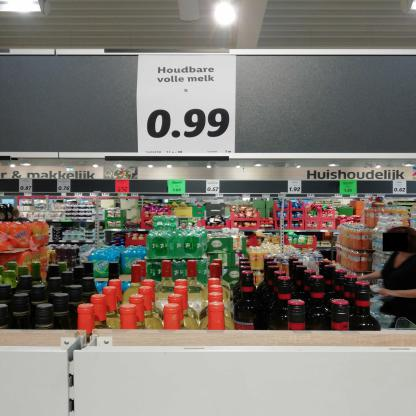prtg: (137, 56, 237, 154)
